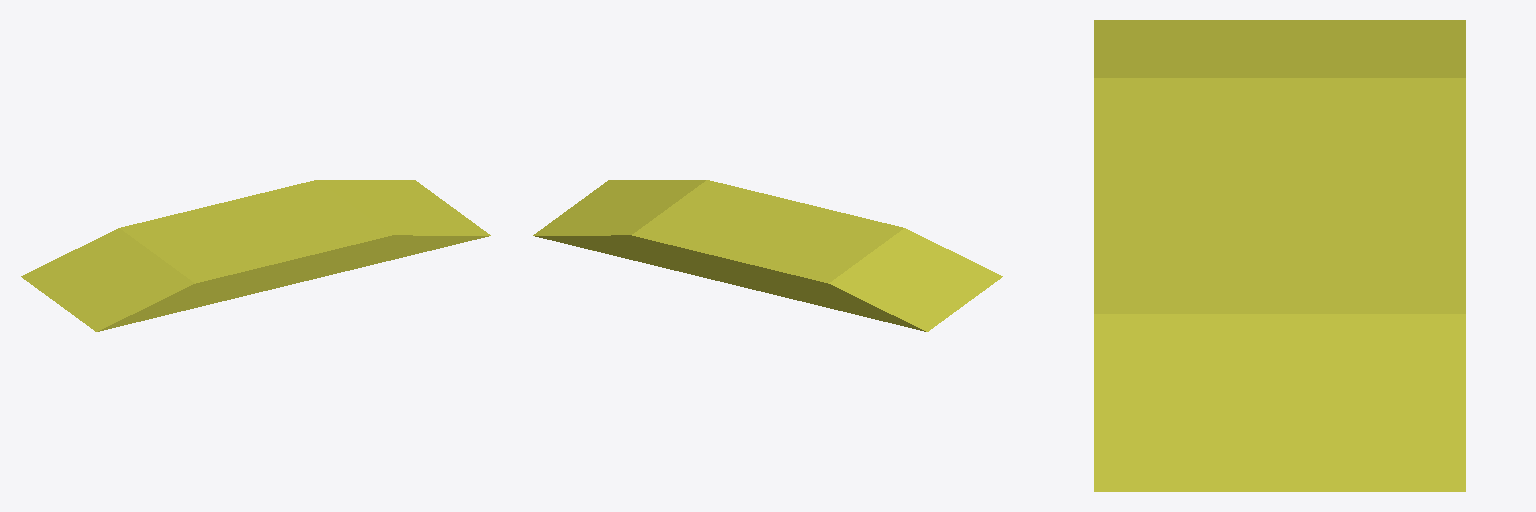
The robot description file, URDF, robot "Part1":
<?xml version="1.0" encoding="utf-8"?>
<!-- This URDF was automatically created by SolidWorks to URDF Exporter! Originally created by [author] ([email redacted]) 
     Commit Version: 1.5.1-0-g916b5db  Build Version: 1.5.7152.31018
     For more information, please see http://wiki.ros.org/sw_urdf_exporter -->
<robot
  name="Part1">
  <link
    name="ramp_5">
    <inertial>
      <origin
        xyz="7.5814E-16 7.67928484115444E-17 -0.005"
        rpy="0 0 0" />
      <mass
        value="500" />
      <inertia
        ixx="180.35"
        ixy="-6.0423E-14"
        ixz="4.7564E-15"
        iyy="450.35"
        iyz="1.08287265732095E-14"
        izz="630" />
    </inertial>
    <visual>
      <origin
        xyz="-1.2 -0.5 0"
        rpy="1.5707963267949 0 0" />
      <geometry>
        <mesh
          filename="package://ramp_5/meshes/ramp_5.STL" scale="1.5 3.958 1" />
      </geometry>
      <material
        name="">
        <color
          rgba="0.8 0.8 0.3 1" />
        <texture
          filename="package://ramp_5/textures/" />
      </material>
    </visual>
    <collision>
      <origin
        xyz="-1.2 -0.5 0"
        rpy="1.5707963267949 0 0" />
      <geometry>
        <mesh
          filename="package://ramp_5/meshes/ramp_5.STL"  scale="1.5 3.958 1"/>
      </geometry>
    </collision>
  </link>
</robot>

--- What the picture shows (computed from the rendered views, not written in the file) ---
The picture shows the robot from 3 angles, left to right: view 1: azimuth 30°, elevation 25°; view 2: azimuth 150°, elevation 25°; view 3: azimuth 270°, elevation 25°; orthographic projection.
Model Part1 with 1 links and 0 joints (none), rooted at ramp_5, posed every joint at zero.
Visible links, largest first — view 1: ramp_5; view 2: ramp_5; view 3: ramp_5.
Boxes of the visible links, left/top/right/bottom form: ramp_5: left=21, top=180, right=490, bottom=331; ramp_5: left=533, top=180, right=1002, bottom=331; ramp_5: left=1094, top=20, right=1465, bottom=491.
Size in the robot's own frame: 6 by 2 by 0.3562 metres.
1 mesh visuals loaded from 1 distinct referenced files (1 binary STL).